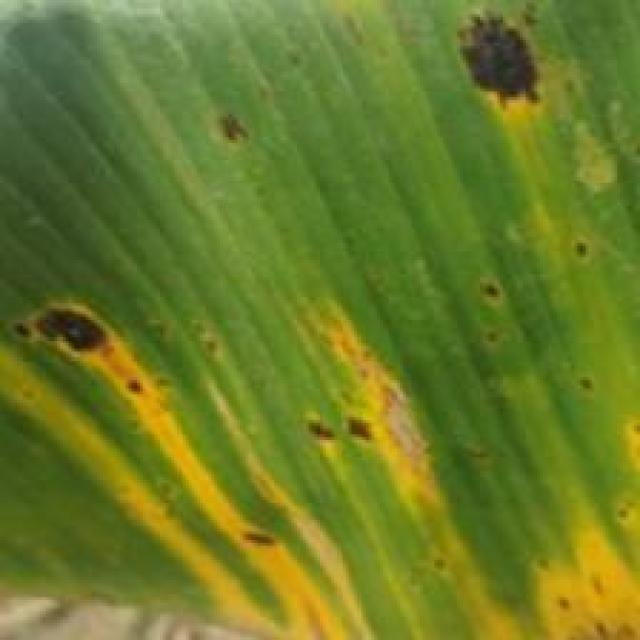Downey_mildrew: (6, 287, 640, 640), (540, 112, 640, 294), (414, 0, 557, 109), (180, 90, 301, 161)
